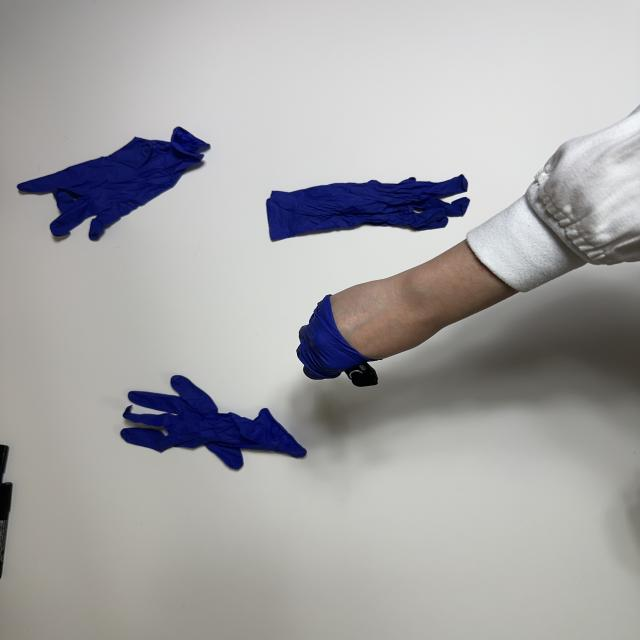glove_not_fitted: (294, 274, 435, 382)
